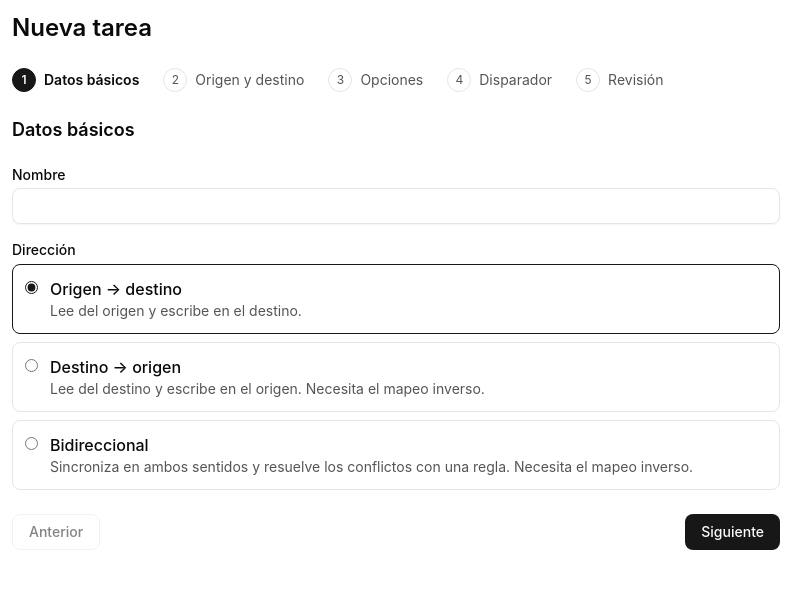
Test case: JobWizard › does not move on until the step is valid
The image size is (801, 597).
Expected: the field labelled "Nombre" is shown, [12,188,780,224]
Click the button "Siguiente" at (733, 532), box [685,514,780,550]
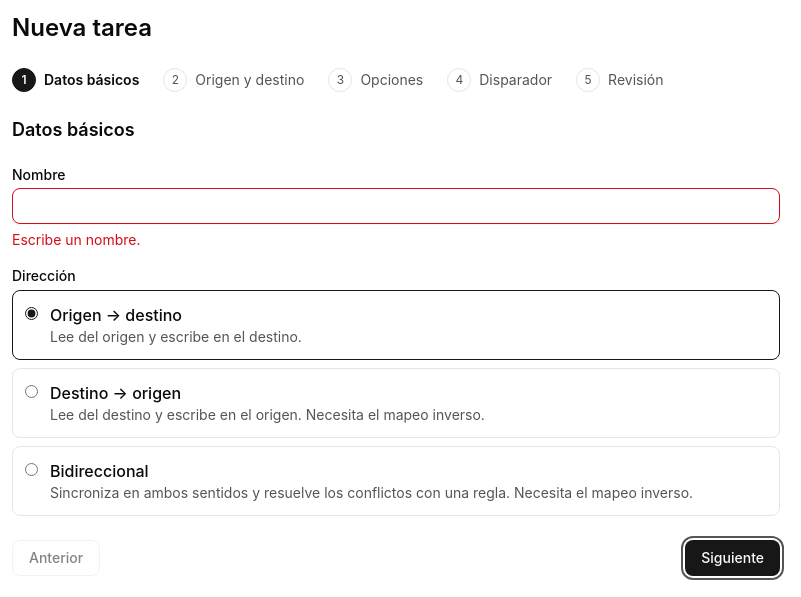
Expected: the list item "1 Datos básicos" is shown, [12,68,139,92]
Expected: the text "Escribe un nombre." is shown, [12,231,140,248]
Type "Tarea" into the field labelled "Nombre" at (396, 206), box [12,188,780,224]
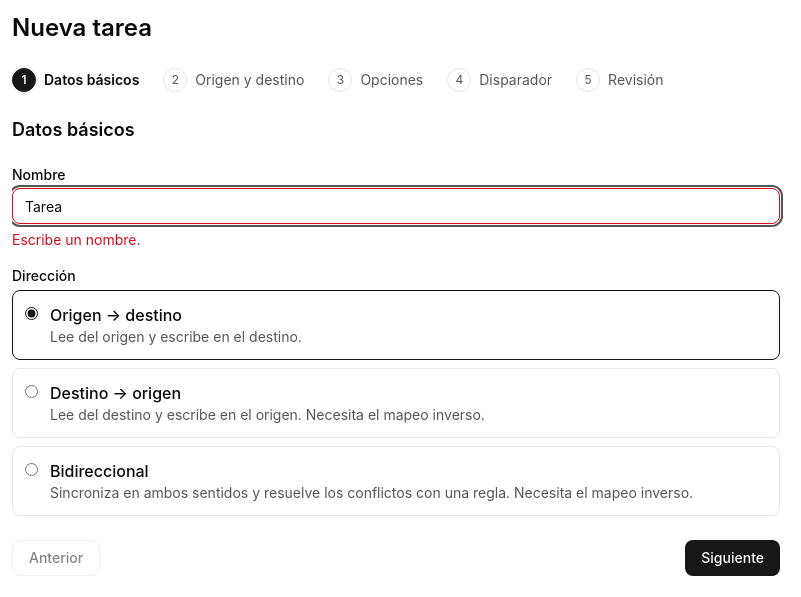
Click the button "Siguiente" at (733, 558), box [685,540,780,576]
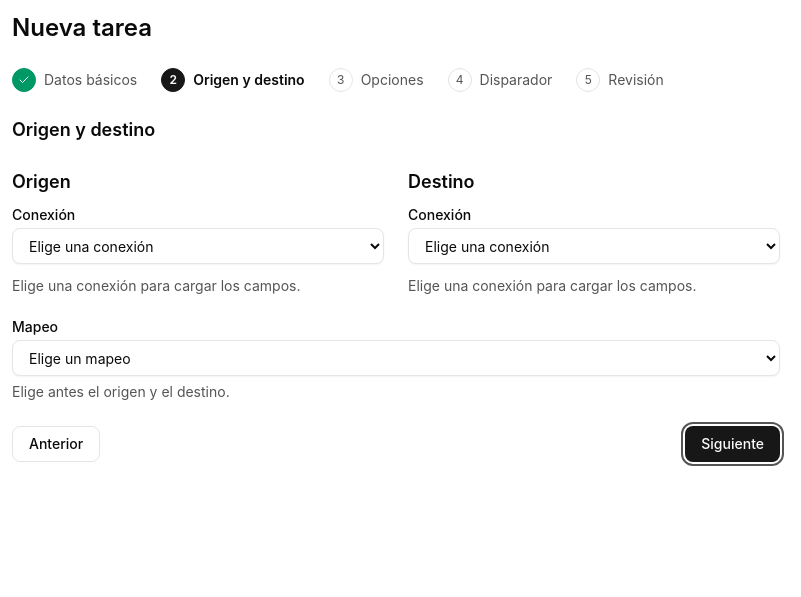
Click the button "Siguiente" at (733, 444), box [685,426,780,462]
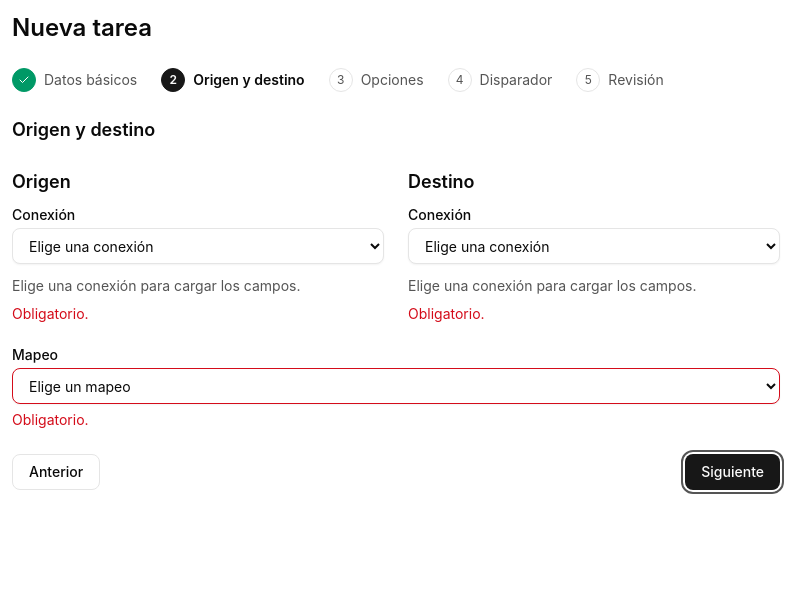
Expected: the list item "2 Origen y destino" is shown, [161,68,305,92]
Expected: the 1st text "Obligatorio." is shown, [12,305,89,322]
